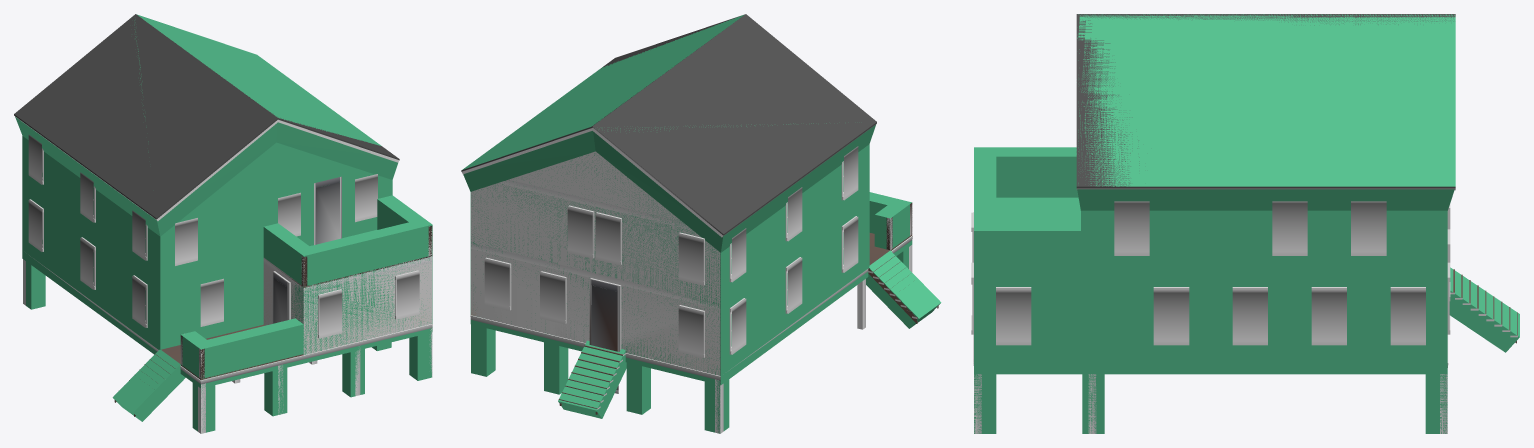
File: eca_bld_house_03_a.dae
3 renders of one model, left to right at view 1: azimuth 30°, elevation 25°; view 2: azimuth 150°, elevation 25°; view 3: azimuth 270°, elevation 25°, orthographic. The views are drawn at different scales.
Visible parts, largest first — view 1: Colmesh-1, ind_bld_a100, ind_bld_a1, ind_bld_a400; view 2: ind_bld_a100, Colmesh-1, ind_bld_a400, ind_bld_a1; view 3: Colmesh-1, ind_bld_a100, ind_bld_a400.
Part boxes in pixels (x1,y1,x2,y2): Colmesh-1: (15,14,432,432); ind_bld_a100: (14,14,432,433); ind_bld_a1: (263,256,431,353); ind_bld_a400: (29,148,432,378); ind_bld_a100: (461,14,938,433); Colmesh-1: (462,15,941,433); ind_bld_a400: (471,161,937,409); ind_bld_a1: (471,180,720,375); Colmesh-1: (974,14,1519,433); ind_bld_a100: (973,14,1517,433); ind_bld_a400: (971,204,1517,362).
Bounding box in the file's own units: 11.08 × 13.92 × 9.64.
